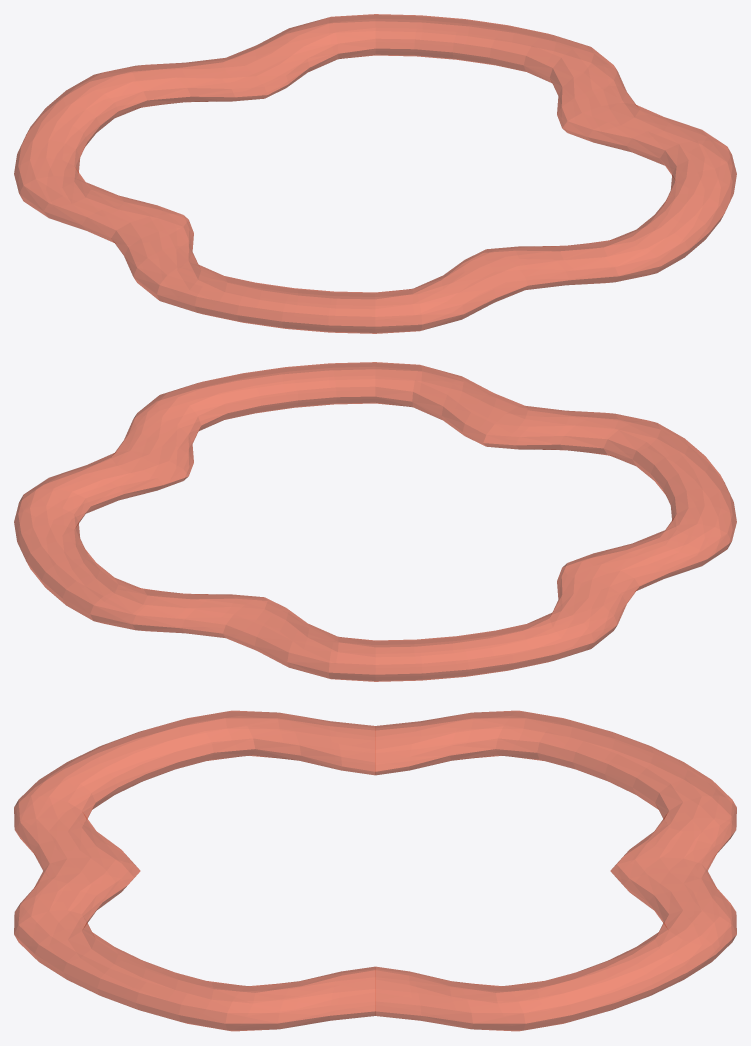
The model's file is unit_select_marker.dae.
3 views of the same model, one above another, from view 1: azimuth 30°, elevation 25°; view 2: azimuth 150°, elevation 25°; view 3: azimuth 270°, elevation 25° (orthographic). The views are drawn at different scales.
Visible parts, largest first — view 1: Torus.001; view 2: Torus.001; view 3: Torus.001.
Boxes of the visible parts, x1,y1,x2,y2 form: Torus.001: (14,14,736,333); Torus.001: (14,362,736,681); Torus.001: (14,710,736,1031).
Size of the model in its own units: 1.01 by 1.01 by 0.0536.
